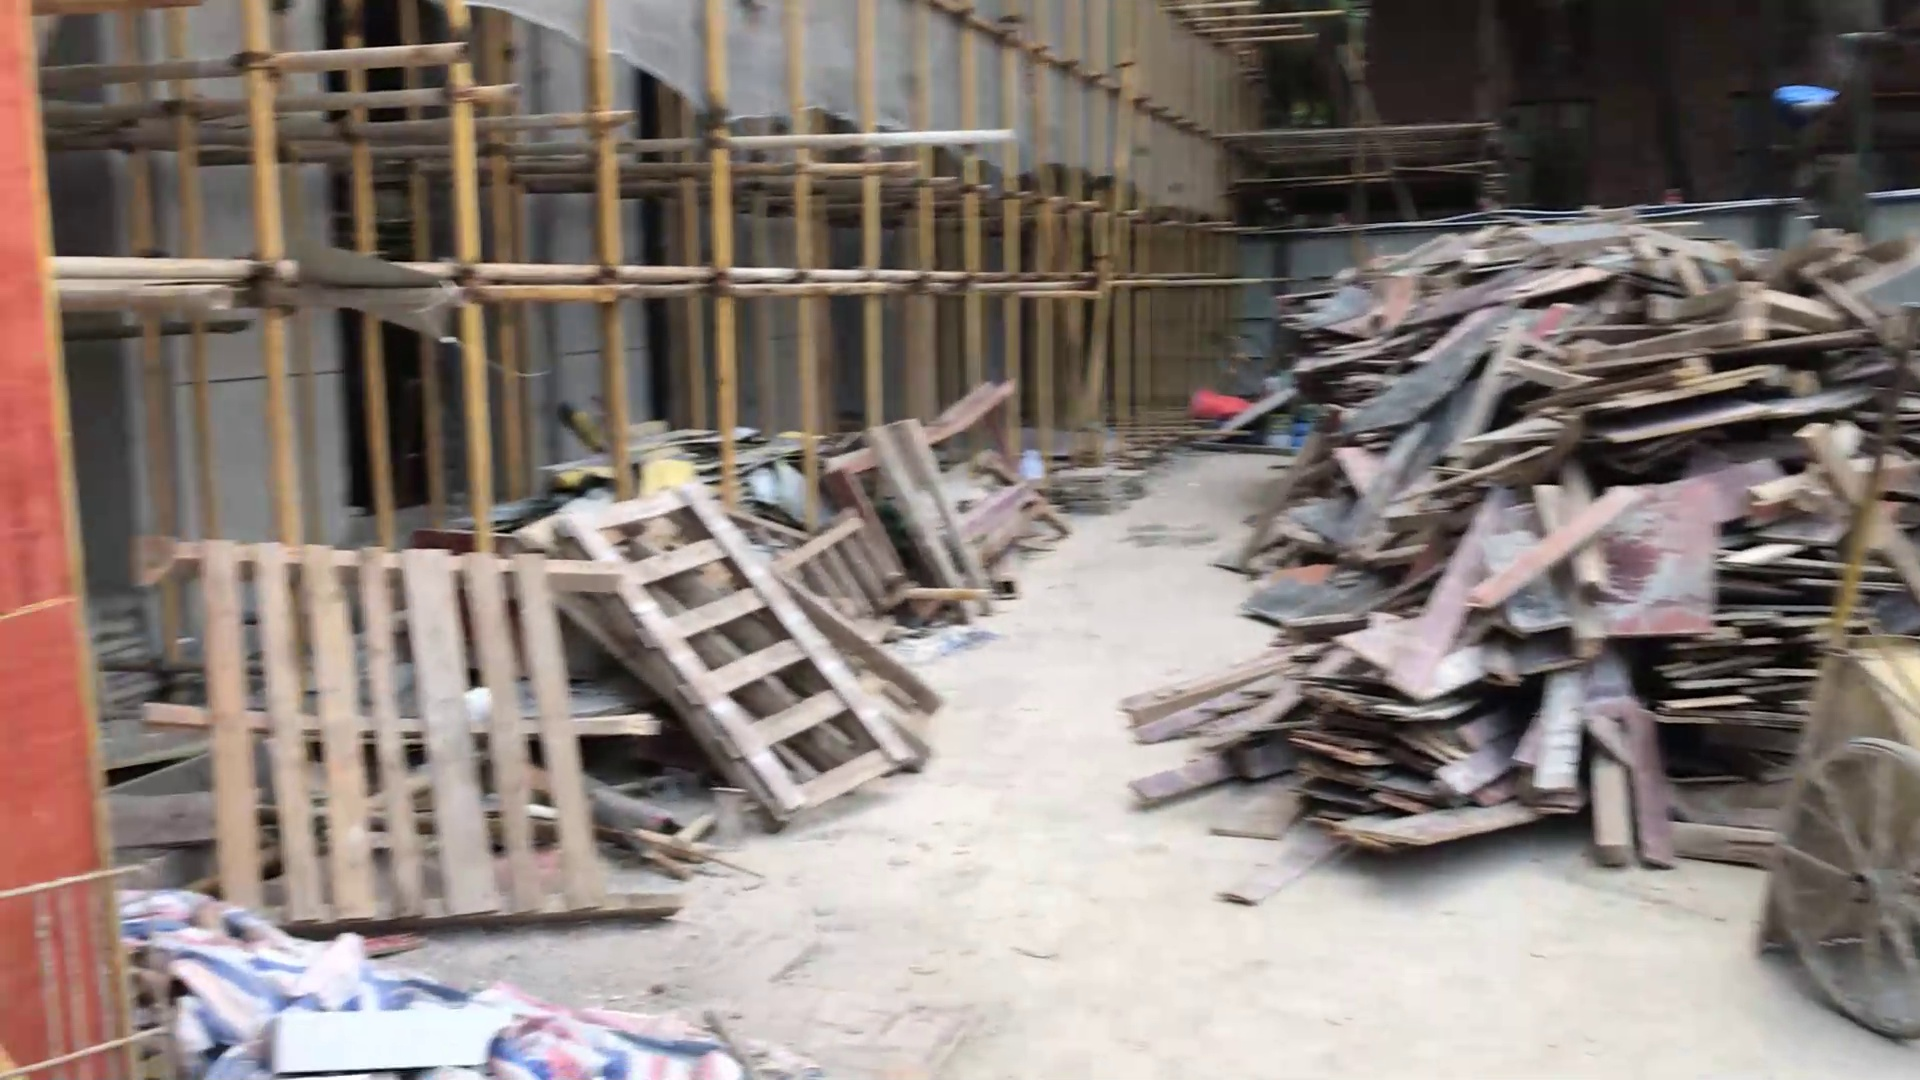handcart: (1746, 286, 1917, 1047)
